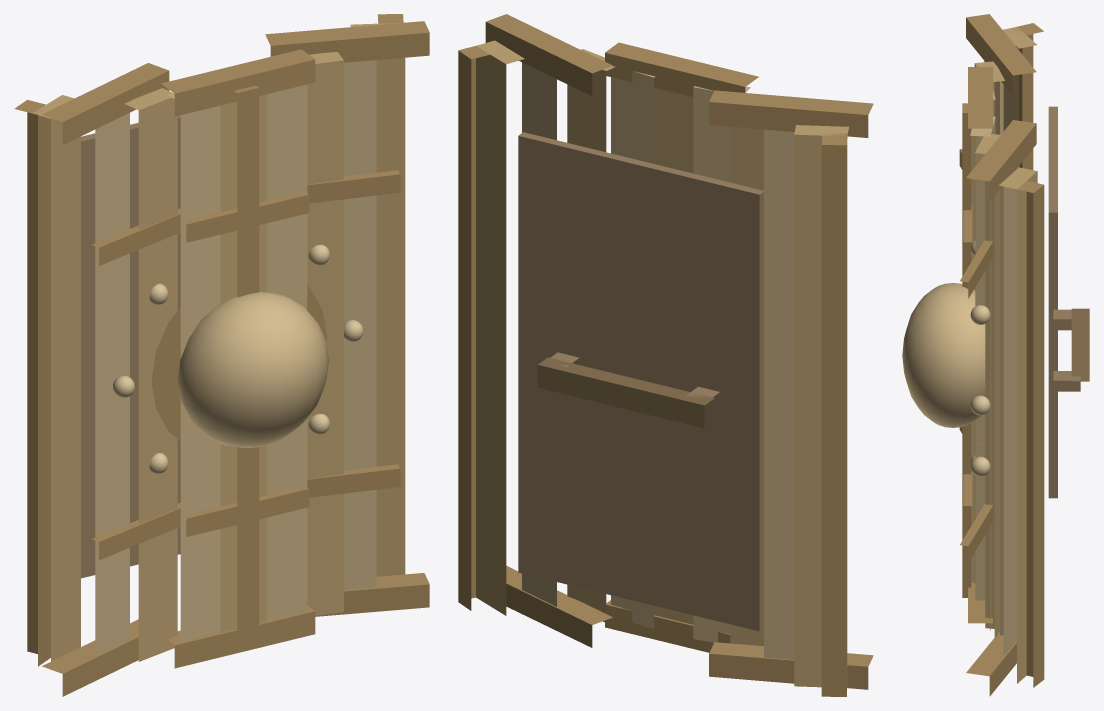
Rendered from bronze_shield.glb.
The picture shows the model from 3 angles, left to right: view 1: azimuth 30°, elevation 25°; view 2: azimuth 150°, elevation 25°; view 3: azimuth 270°, elevation 25°; orthographic projection. The views are drawn at different scales.
Parts seen in each view (by area): view 1: BronzeShield; view 2: BronzeShield; view 3: BronzeShield.
Boxes of the visible parts, x1,y1,x2,y2 form: BronzeShield: (14,14,429,696); BronzeShield: (458,14,873,696); BronzeShield: (902,14,1089,696).
Bounding box in the file's own units: 0.8853 × 1.25 × 0.412.
